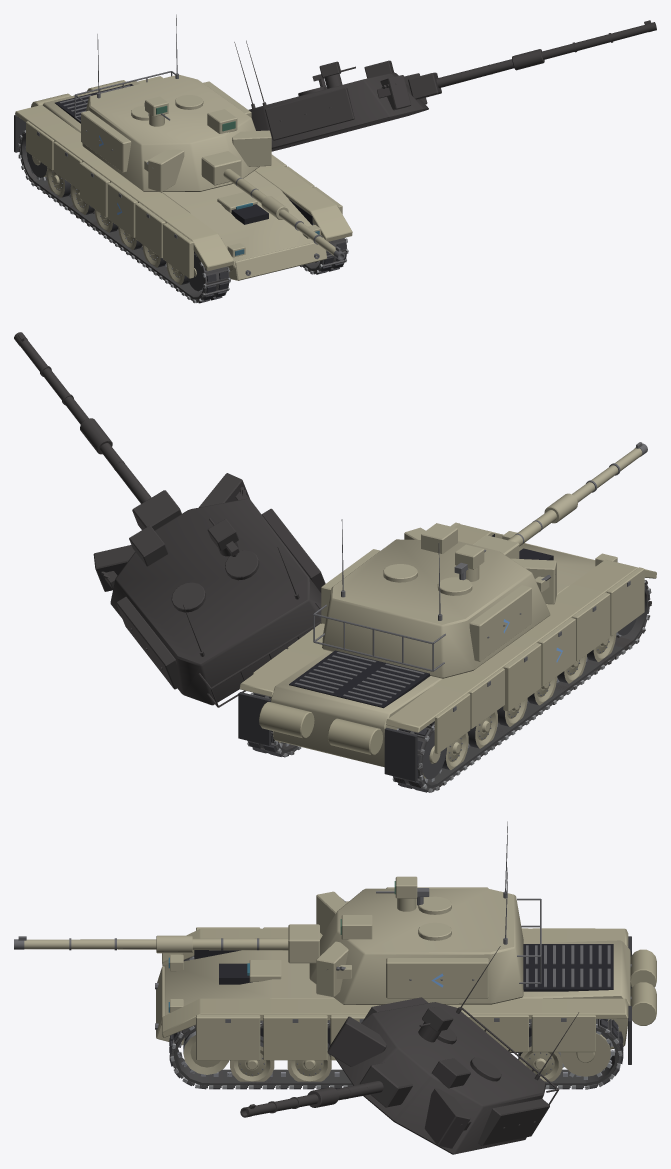
Rendered from tank__challenger_3.glb.
3 views of the same model, one above another, from view 1: azimuth 30°, elevation 25°; view 2: azimuth 150°, elevation 25°; view 3: azimuth 270°, elevation 25° (orthographic). The views are drawn at different scales.
Parts seen in each view (by area): view 1: Hull_Mesh, Turret_Mesh, Wreck, Track_L_Mesh, Gun_Mesh, Track_R_Mesh, Gunner_Sight_Mesh, CITV_Mesh, Wheel_L0_Mesh; view 2: Wreck, Hull_Mesh, Turret_Mesh, Track_L_Mesh, Gun_Mesh, Gunner_Sight_Mesh, CITV_Mesh, Sprocket_L_Mesh, Wheel_L1_Mesh; view 3: Hull_Mesh, Wreck, Turret_Mesh, Gun_Mesh, Track_R_Mesh, Sprocket_R_Mesh, Wheel_R5_Mesh, Wheel_R0_Mesh, Wheel_R4_Mesh, Idler_R_Mesh, Gunner_Sight_Mesh, CITV_Mesh (+2 smaller).
Boxes of the visible parts, <box> form: Hull_Mesh: <box>14,76,352,280</box>; Turret_Mesh: <box>74,71,271,192</box>; Wreck: <box>18,20,656,303</box>; Track_L_Mesh: <box>18,130,230,303</box>; Gun_Mesh: <box>201,151,345,260</box>; Track_R_Mesh: <box>300,224,348,274</box>; Gunner_Sight_Mesh: <box>207,109,237,133</box>; CITV_Mesh: <box>145,96,168,126</box>; Wheel_L0_Mesh: <box>46,167,71,197</box>; Wreck: <box>14,332,651,791</box>; Hull_Mesh: <box>238,522,656,781</box>; Turret_Mesh: <box>313,527,556,678</box>; Track_L_Mesh: <box>392,580,650,792</box>; Gun_Mesh: <box>473,442,647,558</box>; Gunner_Sight_Mesh: <box>421,523,457,553</box>; CITV_Mesh: <box>455,544,484,581</box>; Sprocket_L_Mesh: <box>422,731,446,782</box>; Wheel_L1_Mesh: <box>467,711,497,748</box>; Hull_Mesh: <box>155,927,656,1064</box>; Wreck: <box>169,946,623,1154</box>; Turret_Mesh: <box>309,887,541,1004</box>; Gun_Mesh: <box>14,924,319,963</box>; Track_R_Mesh: <box>169,1019,623,1089</box>; Sprocket_R_Mesh: <box>558,1030,614,1079</box>; Wheel_R5_Mesh: <box>230,1035,274,1081</box>; Wheel_R0_Mesh: <box>518,1036,562,1081</box>; Wheel_R4_Mesh: <box>287,1043,331,1081</box>; Idler_R_Mesh: <box>183,1030,229,1074</box>; Gunner_Sight_Mesh: <box>340,915,372,939</box>; CITV_Mesh: <box>394,876,417,911</box>.
Size of what is drawn, in the model's own units: 11.98 by 3.96 by 11.3.
